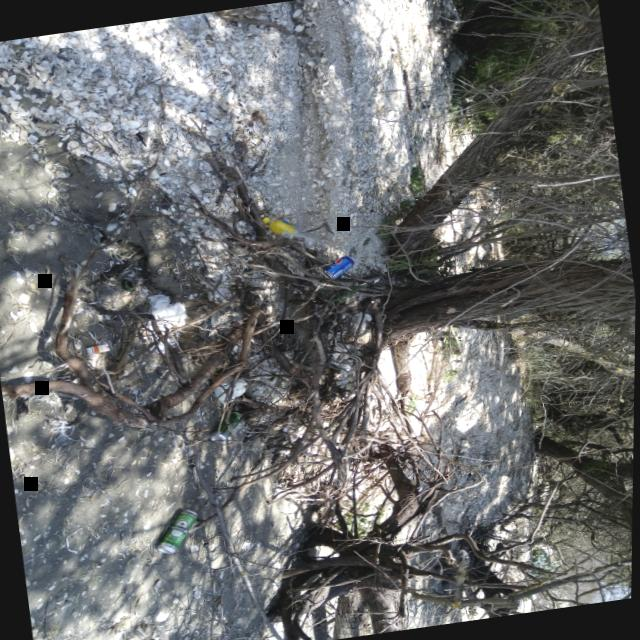Clear plastic bottle: (262, 217, 320, 249)
Drink can: (157, 510, 198, 554), (210, 412, 243, 444), (323, 256, 355, 280)
Other carton: (86, 344, 110, 356)
Plastic bottle cap: (262, 217, 269, 224)
Plastic film: (146, 295, 188, 354)
Single-use carrier bag: (215, 377, 247, 404)
